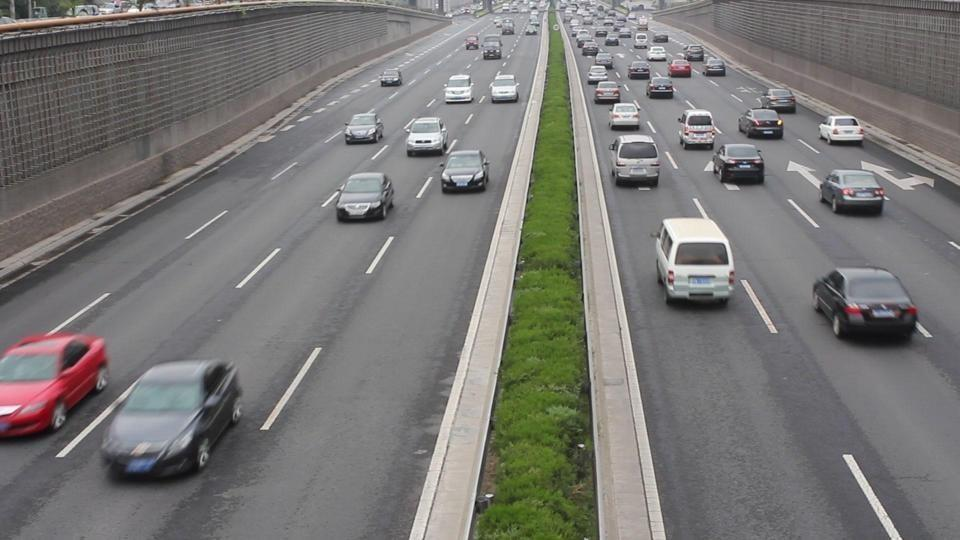car: (99, 357, 244, 480), (0, 333, 110, 438), (811, 266, 920, 341), (652, 218, 737, 307), (819, 169, 888, 216), (334, 171, 396, 222), (608, 134, 662, 188), (440, 149, 491, 194), (713, 142, 766, 185), (404, 117, 450, 156), (677, 110, 720, 150), (818, 114, 864, 146), (738, 108, 784, 139), (344, 112, 385, 144), (443, 74, 475, 104), (608, 101, 641, 130), (489, 73, 520, 103), (593, 81, 622, 105), (647, 76, 675, 99), (627, 61, 652, 80), (587, 66, 608, 85), (380, 68, 402, 86)
